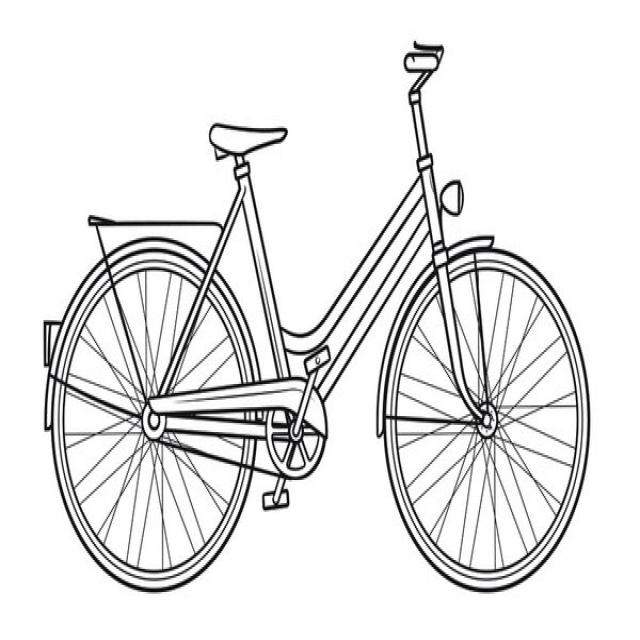bicycle: (36, 13, 593, 599)
